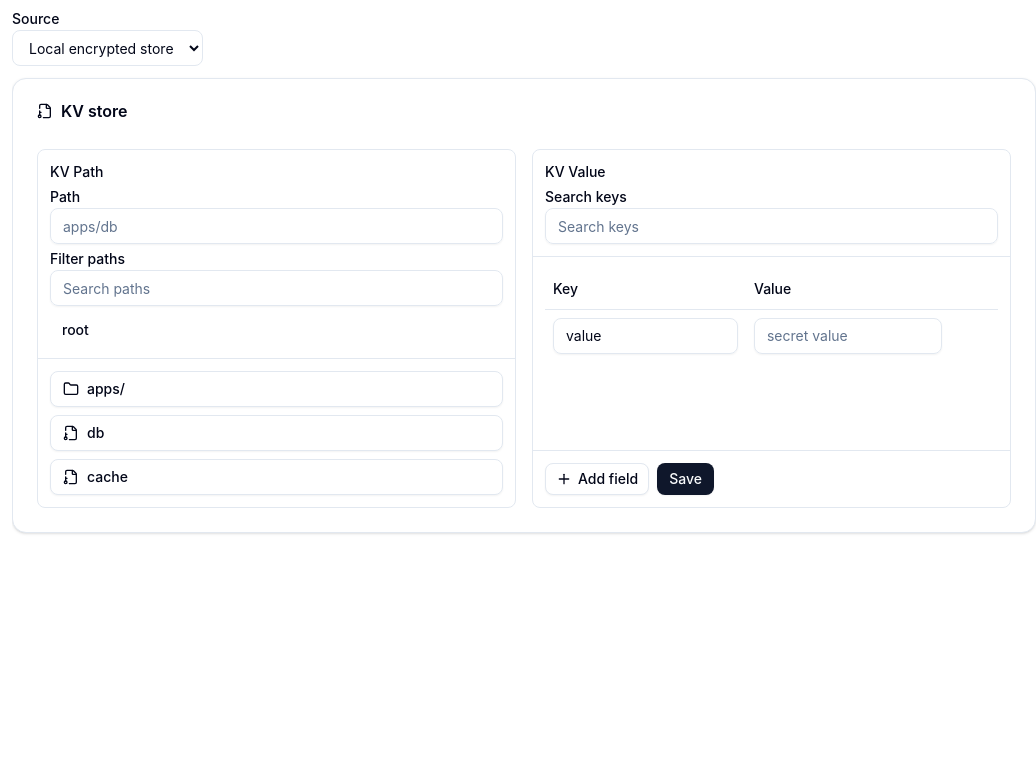
Test: KV secrets editor › filters listed paths in the KV Path pane
Expected: the button "db" is shown, [50,415,503,451]
Expected: the button "apps/" is shown, [50,371,503,407]
Step 1. Type "db" into the field labelled "Filter paths" → (276, 288), box [50,270,503,306]
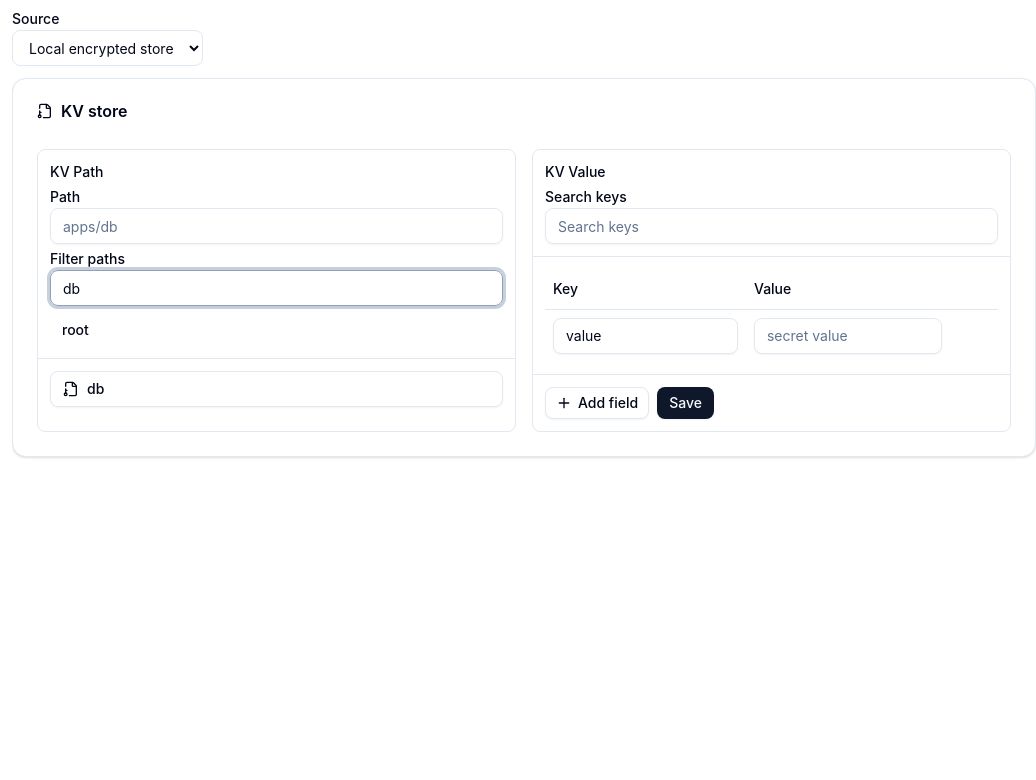
Expected: the button "db" is shown, [50,371,503,407]
Result: the button "cache" is gone
